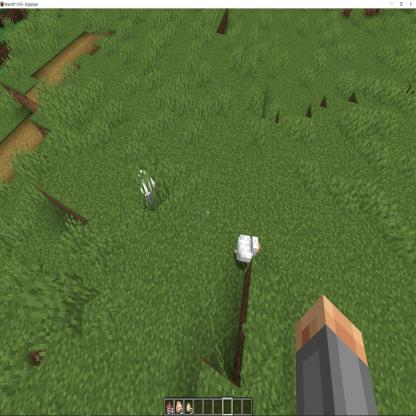minecraft-pigs: (233, 233, 262, 270), (136, 166, 159, 209)
